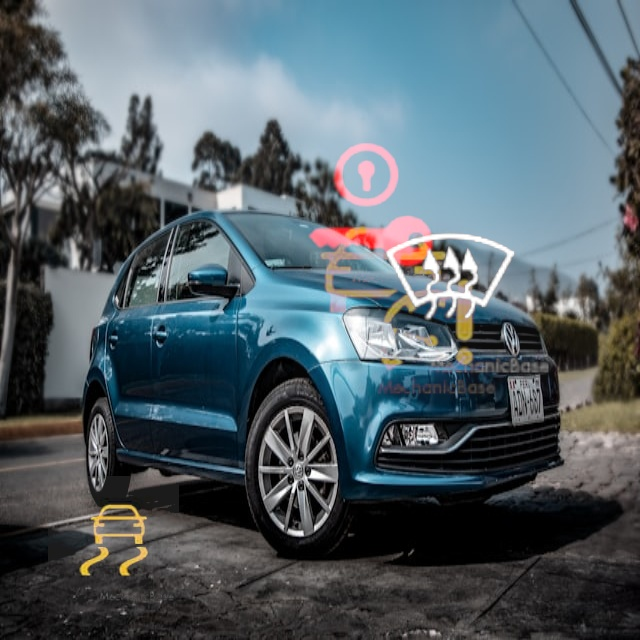symbol: (347, 173, 557, 383), (293, 196, 499, 402), (285, 119, 457, 291), (48, 476, 179, 607)
